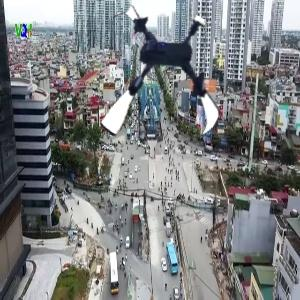drone: (87, 6, 235, 154)
